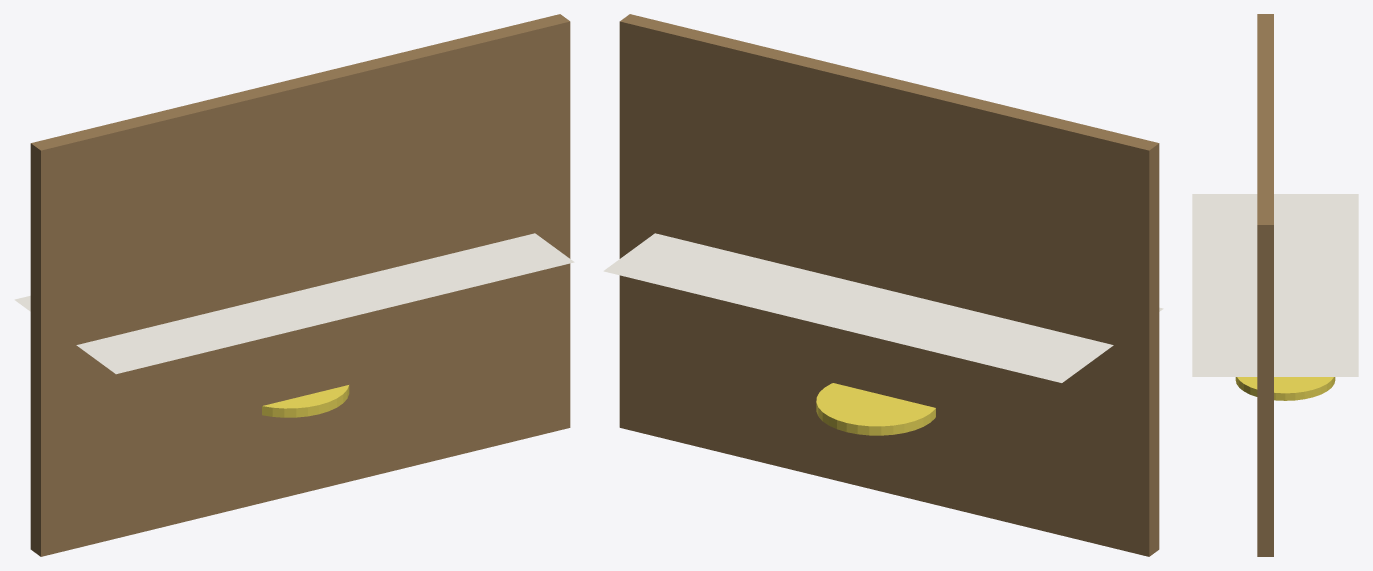
Rendered from diploma_frame.glb.
The picture shows the model from 3 angles, left to right: view 1: azimuth 30°, elevation 25°; view 2: azimuth 150°, elevation 25°; view 3: azimuth 270°, elevation 25°; orthographic projection. The views are drawn at different scales.
Parts seen in each view (by area): view 1: Cube, Plane, Cylinder; view 2: Cube, Plane, Cylinder; view 3: Plane, Cube, Cylinder.
Part boxes in pixels (x1,y1,x2,y2): Cube: (30, 14, 570, 556); Plane: (14, 233, 574, 374); Cylinder: (262, 385, 349, 417); Cube: (619, 14, 1159, 556); Plane: (603, 233, 1163, 382); Cylinder: (816, 383, 935, 435); Plane: (1192, 194, 1358, 376); Cube: (1257, 14, 1273, 556); Cylinder: (1235, 377, 1335, 400).
Size of the model in its own units: 3 by 2.2 by 1.
